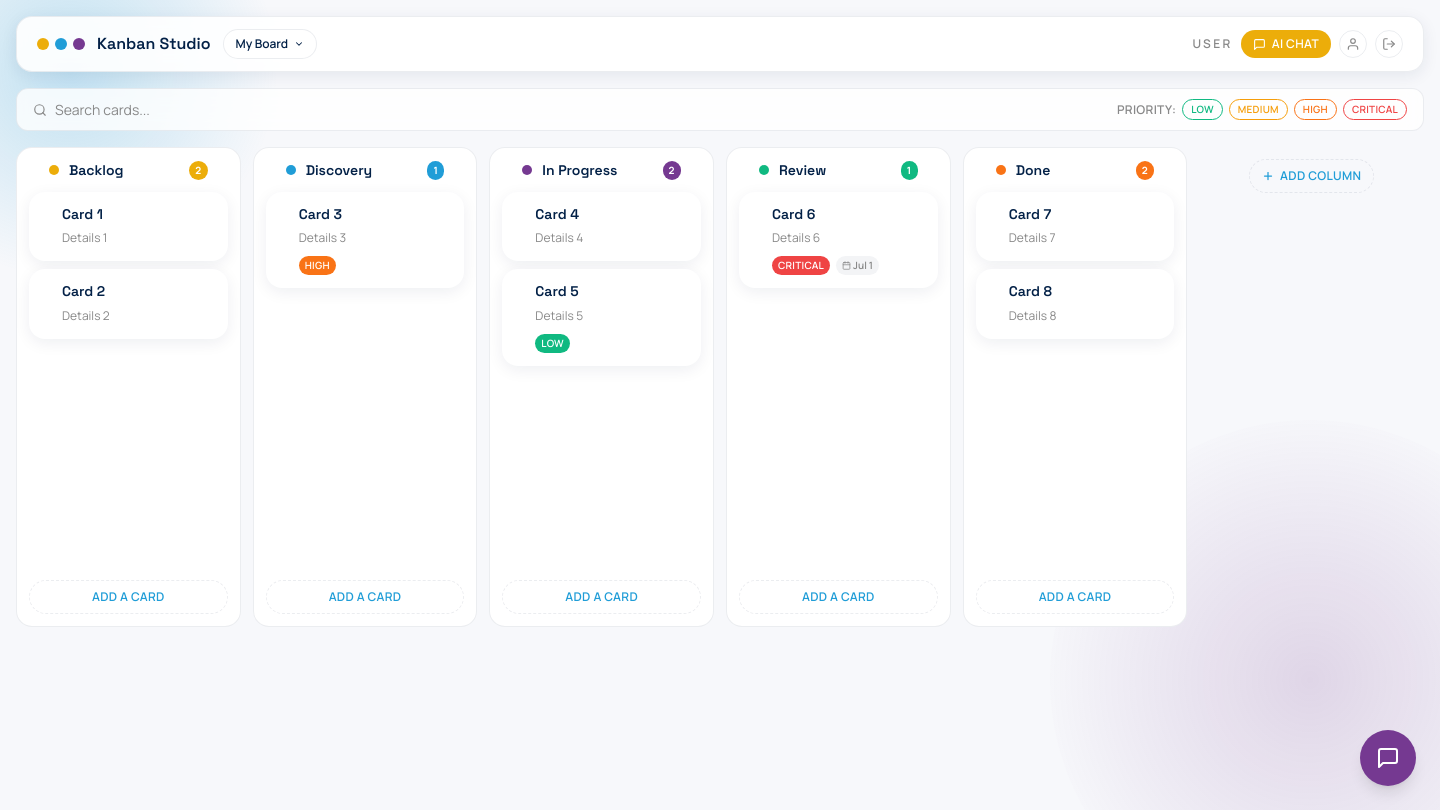
Test: KanbanBoard › clears filters on clear button click
Click the button with test id "filter-low".
click(1203, 110)  # box [1182, 99, 1223, 120]
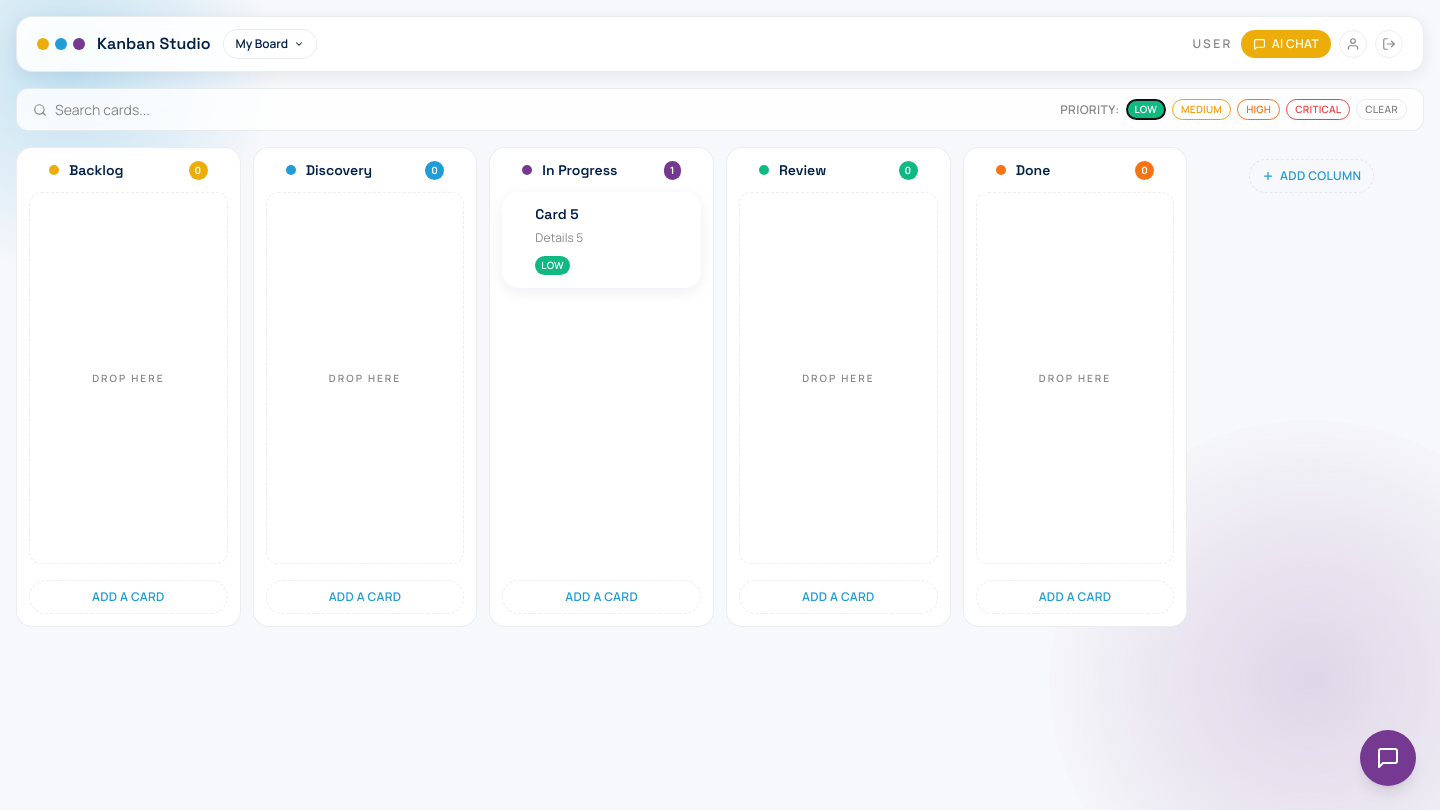
Check: the button with test id "clear-filters" is shown
Click the button with test id "clear-filters".
click(1382, 110)  # box [1356, 99, 1407, 120]
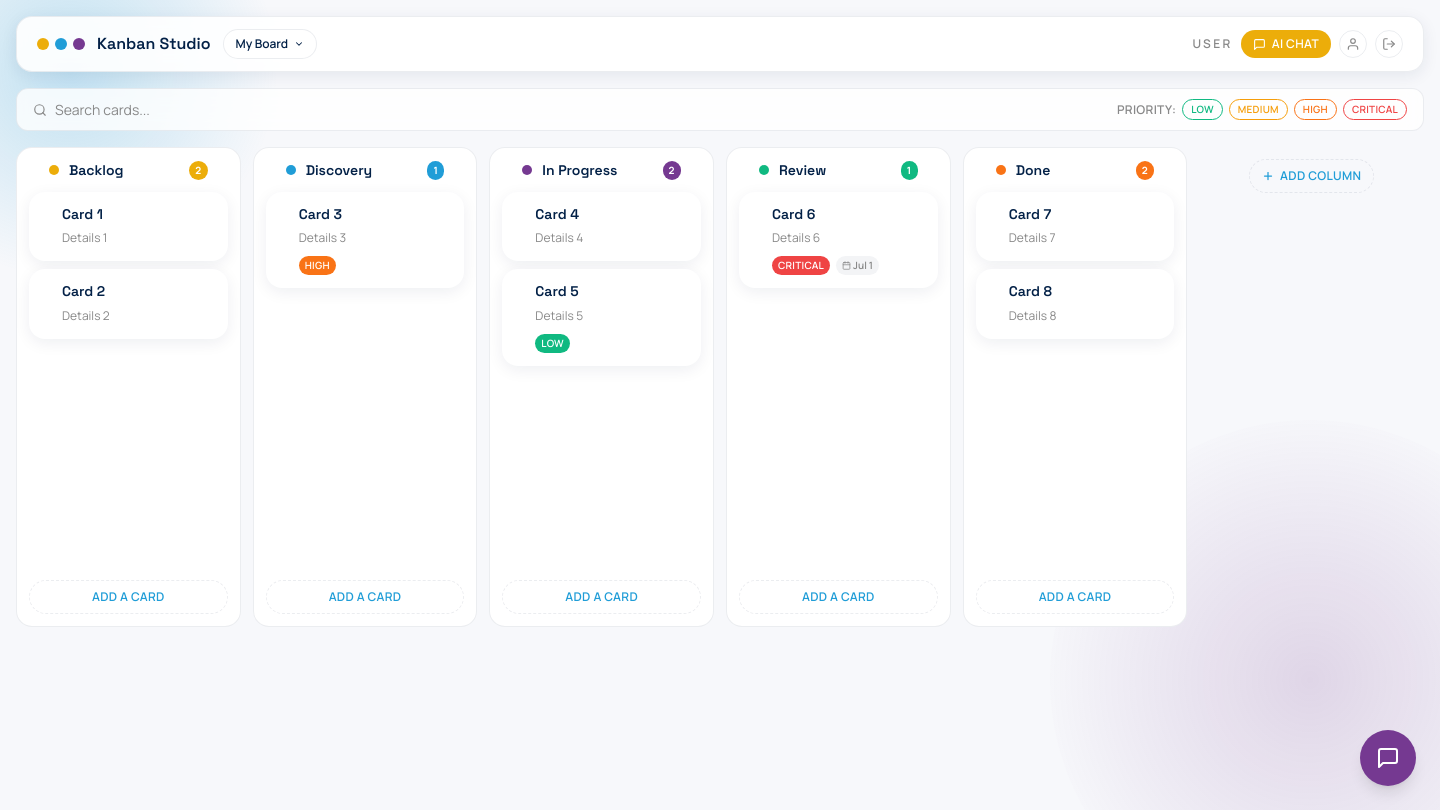
Check: the button with test id "clear-filters" is gone
